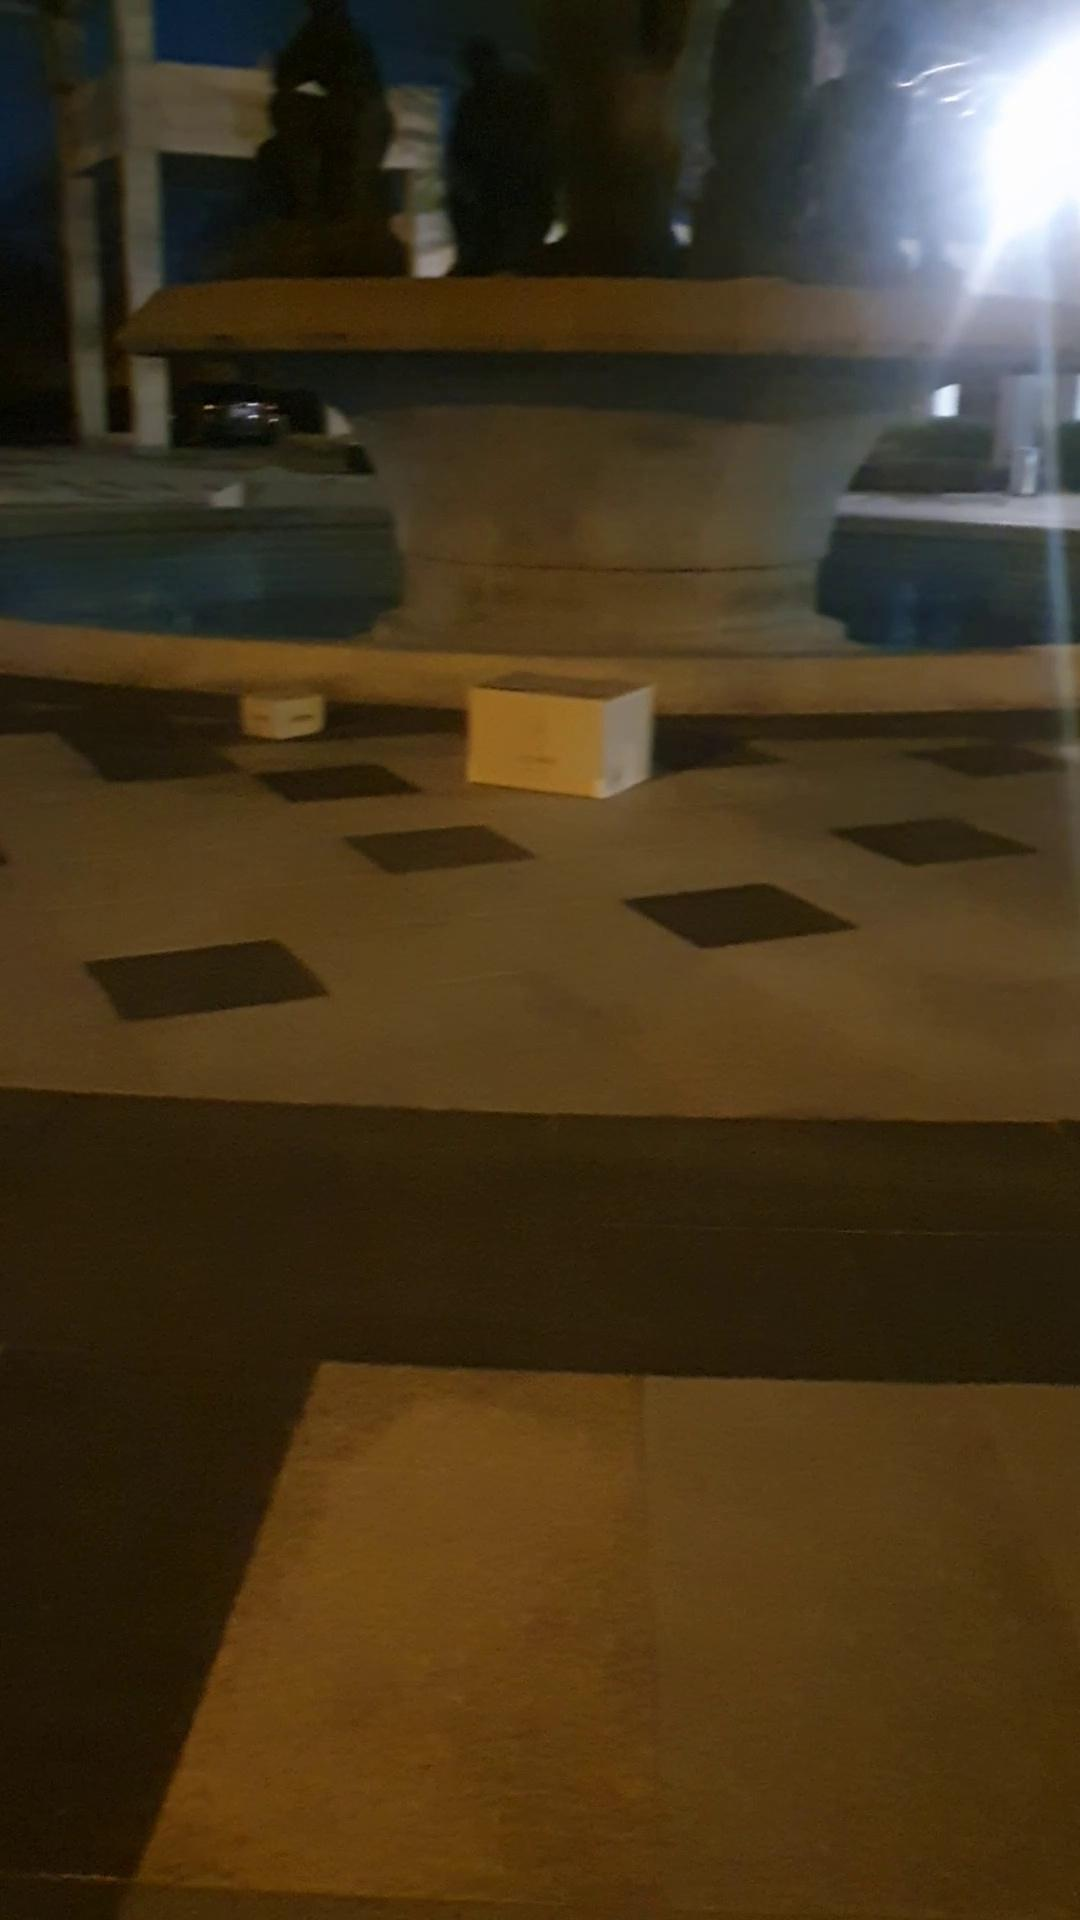Box: (463, 665, 659, 796), (237, 669, 332, 748)
